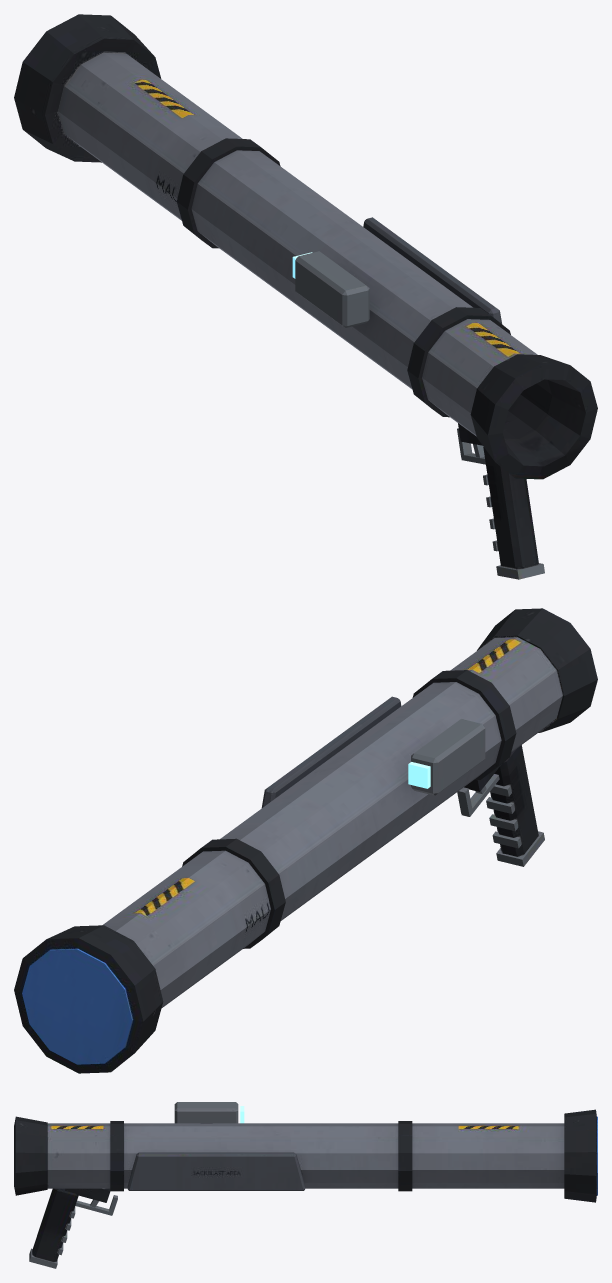
Rendered from maul.glb.
3 renders of one model, top to bottom at view 1: azimuth 30°, elevation 25°; view 2: azimuth 150°, elevation 25°; view 3: azimuth 270°, elevation 25°, orthographic. The views are drawn at different scales.
Visible parts, largest first — view 1: gun|base|; view 2: gun|base|; view 3: gun|base|.
Part boxes in pixels (x1,y1,x2,y2): gun|base|: (14,14,597,579); gun|base|: (14,608,597,1073); gun|base|: (14,1102,597,1268).
Size of the model in its own units: 0.495 by 0.8395 by 2.94.
2 materials, 1 textured.
